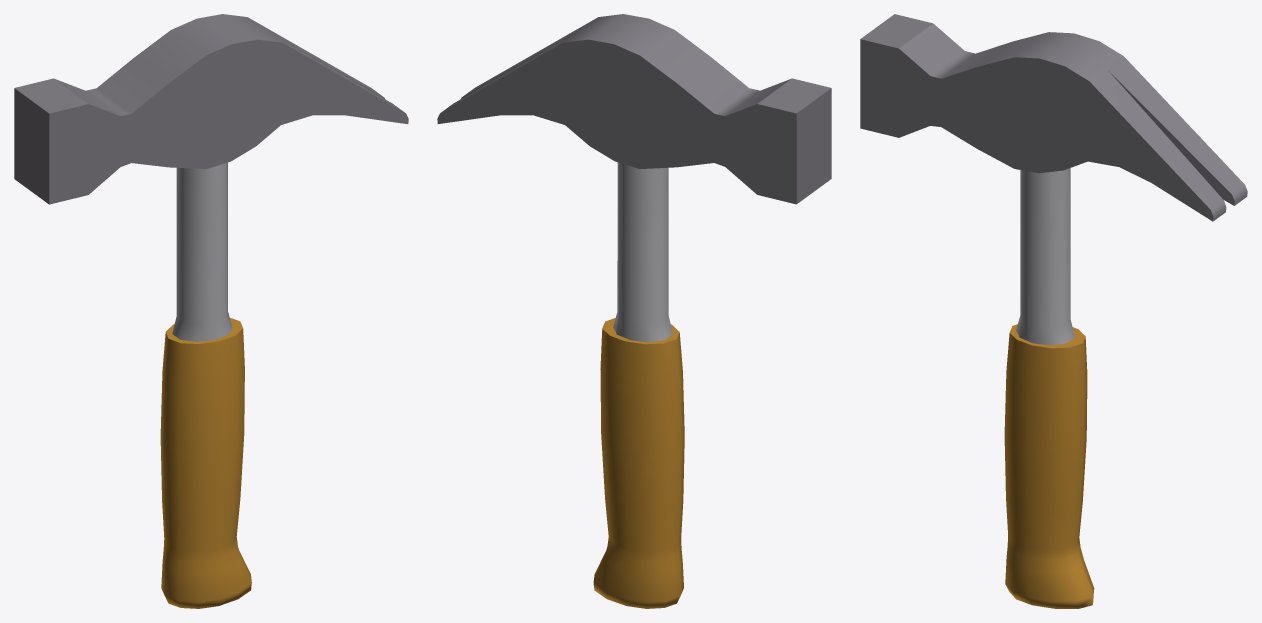
The model's file is Hammer_02.fbx.
The picture shows the model from 3 angles, left to right: view 1: azimuth 30°, elevation 25°; view 2: azimuth 150°, elevation 25°; view 3: azimuth 330°, elevation 25°; orthographic projection.
Visible parts, largest first — view 1: Hammer_02; view 2: Hammer_02; view 3: Hammer_02.
Part boxes in pixels (x1,y1,x2,y2): Hammer_02: (14,14,408,608); Hammer_02: (437,14,831,608); Hammer_02: (860,14,1247,608).
Bounding box in the file's own units: 30.58 × 5.26 × 45.93.
